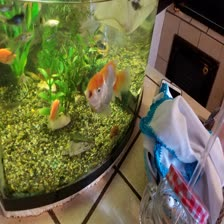Cuezo: (81, 56, 129, 113)
Plano: (45, 96, 61, 122), (0, 46, 20, 63)
